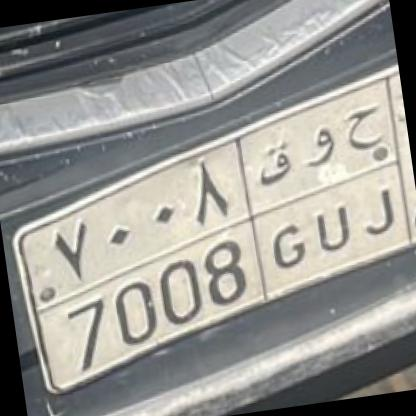english: (16, 197, 416, 360)
